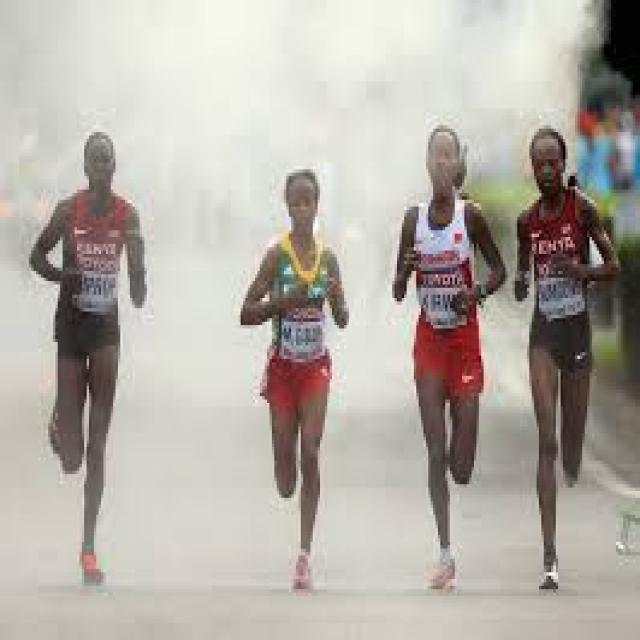running: (24, 127, 148, 590), (388, 125, 509, 598), (512, 126, 623, 602), (238, 163, 352, 589)
